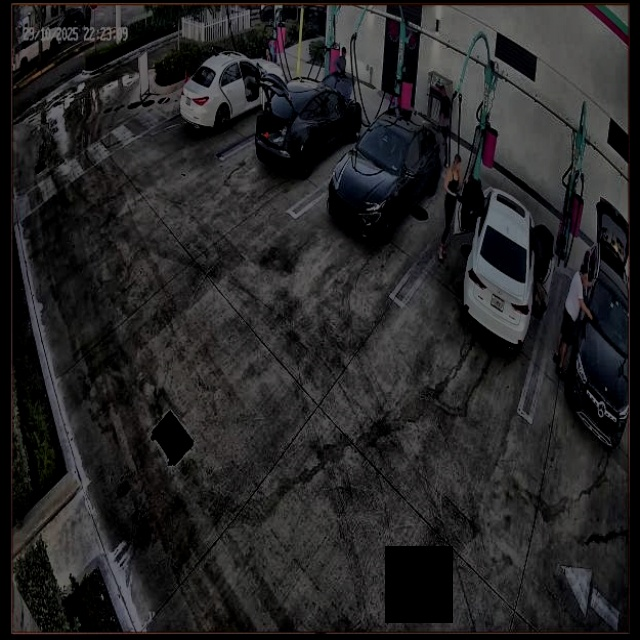Car: (328, 105, 440, 242), (456, 176, 541, 342), (256, 69, 359, 178)
